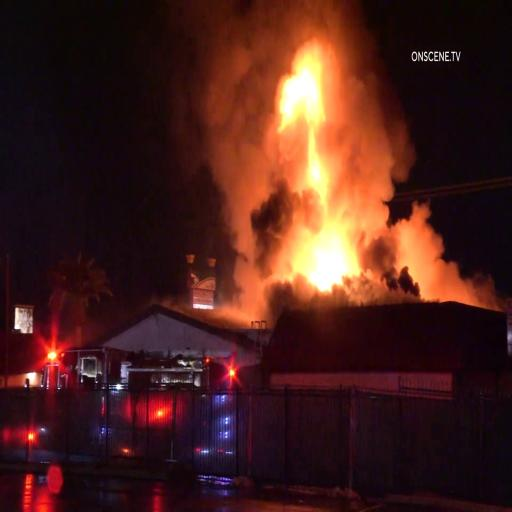fire: (308, 227, 365, 293), (278, 64, 322, 134)
smoke: (187, 11, 281, 295)
